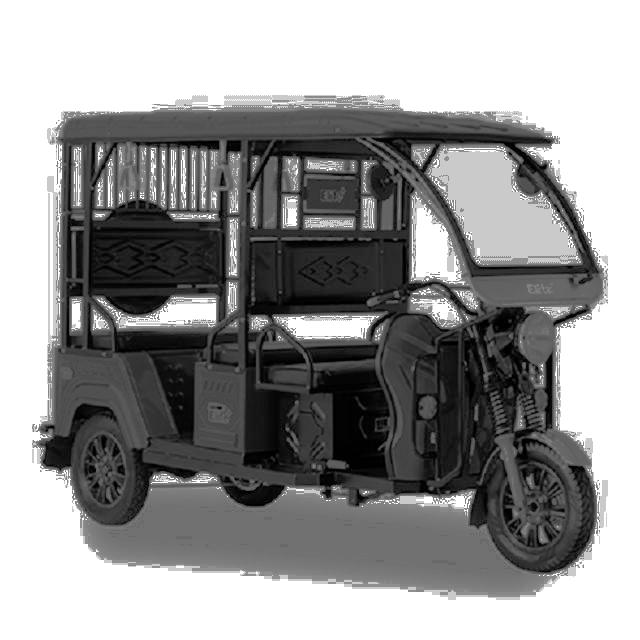Toto: (51, 107, 593, 575)
